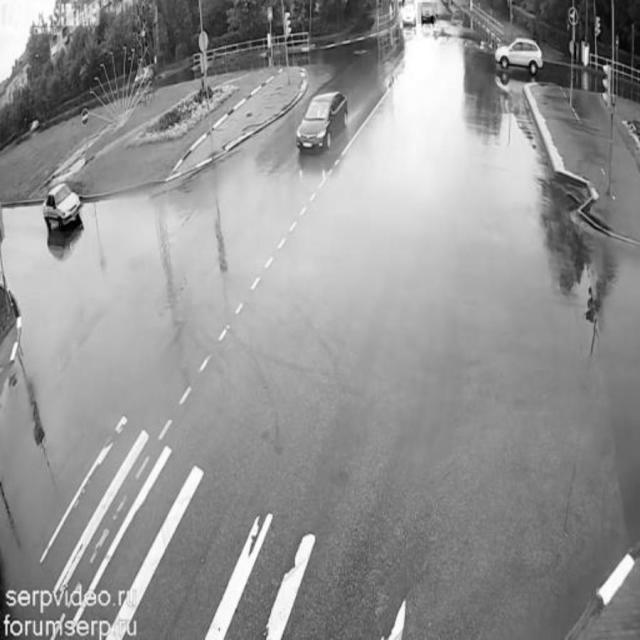vehicle: (295, 89, 351, 153), (497, 36, 539, 83), (47, 182, 82, 232), (403, 6, 420, 32), (418, 3, 438, 23)
